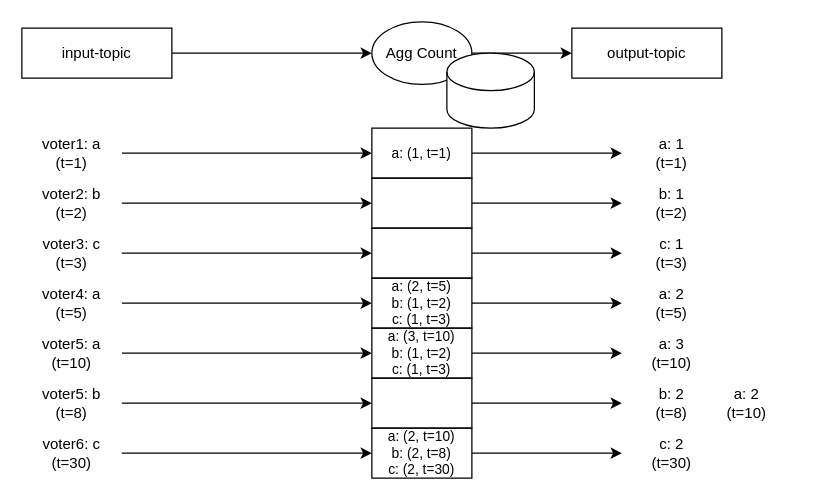
The diagram is 819 pixels wide and 500 high, and some of its shapes have lost their labels. The centre of each missing label's shape, as x and y in pixels:
"a: (1, t=1) b: (1, t=2)" goes at [421,202].
"a: (1, t=1) b: (1, t=2) c: (1, t=3)" goes at [421,252].
"a: (2, t=10) b: (2, t=8) c: (1, t=3)" goes at [421,402].
"TimestampKeyValueStore" goes at [490,90].
